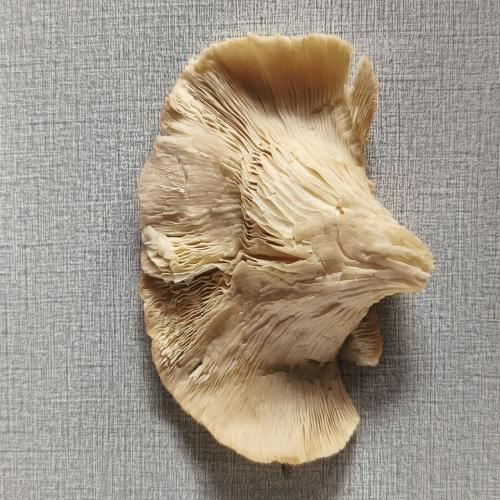Oyster Mushroom: (140, 35, 432, 463)
